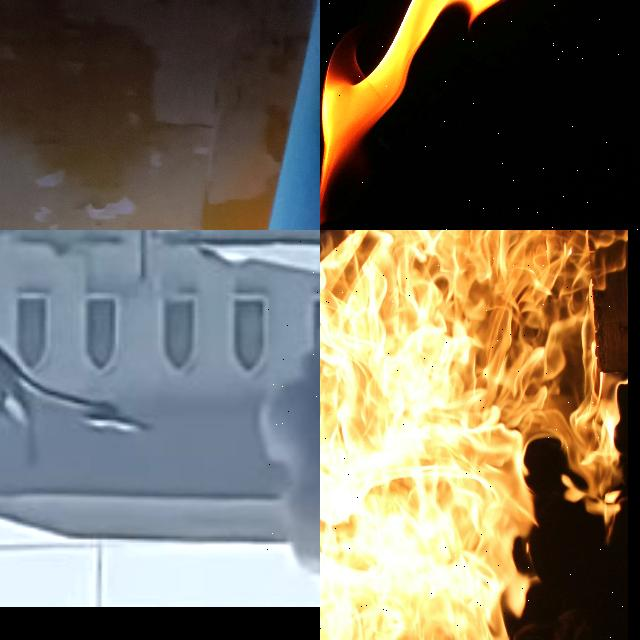fire: (320, 230, 627, 640), (320, 0, 500, 225)
